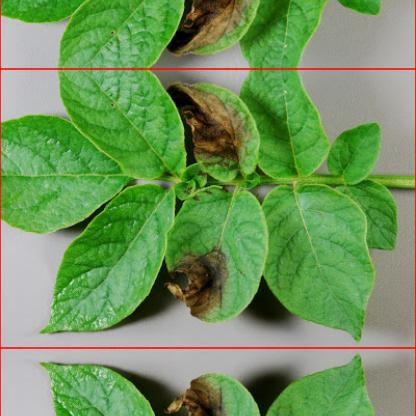Late-Blight: (163, 188, 277, 326), (161, 68, 293, 181), (161, 0, 293, 67), (163, 369, 277, 416)
